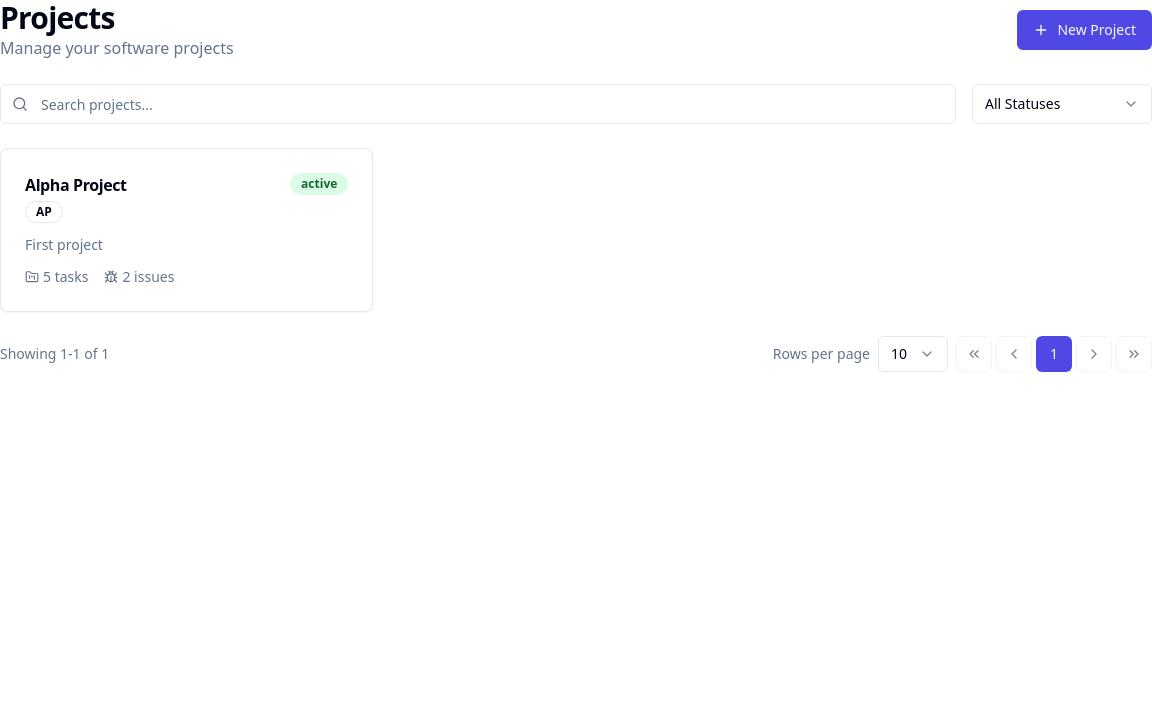
it: ProjectsPage › should POST to /api/projects and refresh the list on submit
Expected: the heading "Alpha Project" is shown, [25,173,127,197]
// Open create dialog
Click the button "New Project": (1085, 30) [1017,10,1151,50]
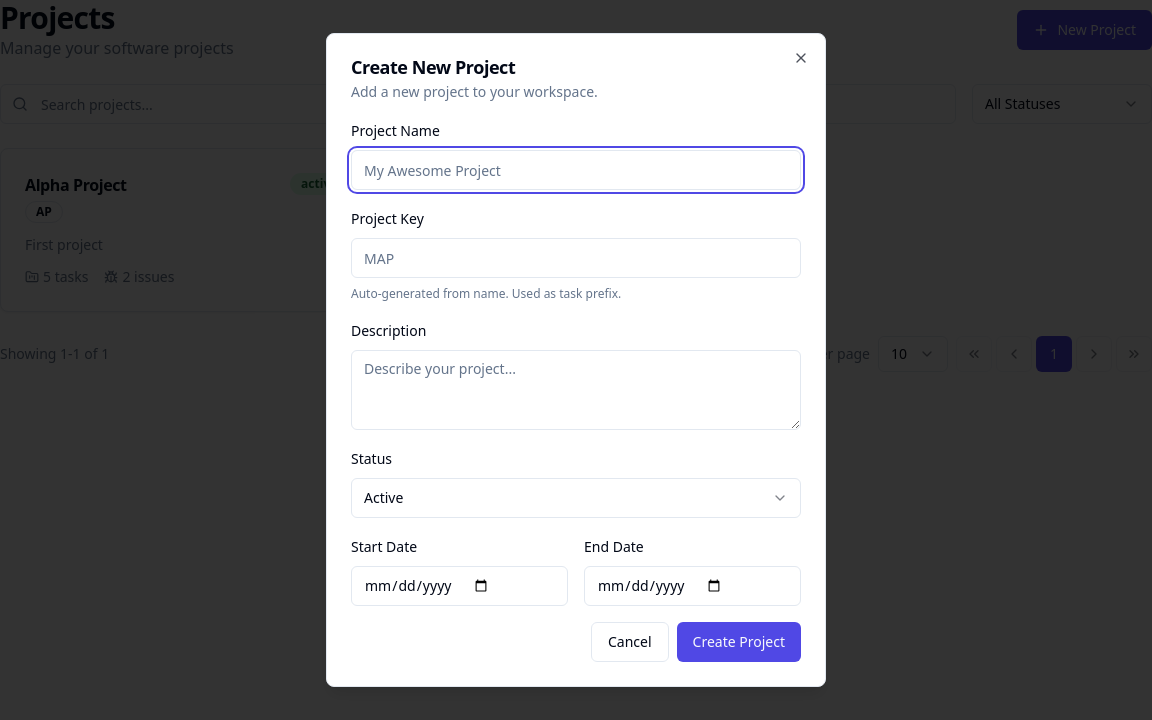
Now the heading "Create New Project" is shown, box [351,55,515,79]
// Fill form
In the field labelled "Project Name": (576, 170) [351,150,801,190], type "Beta Project"
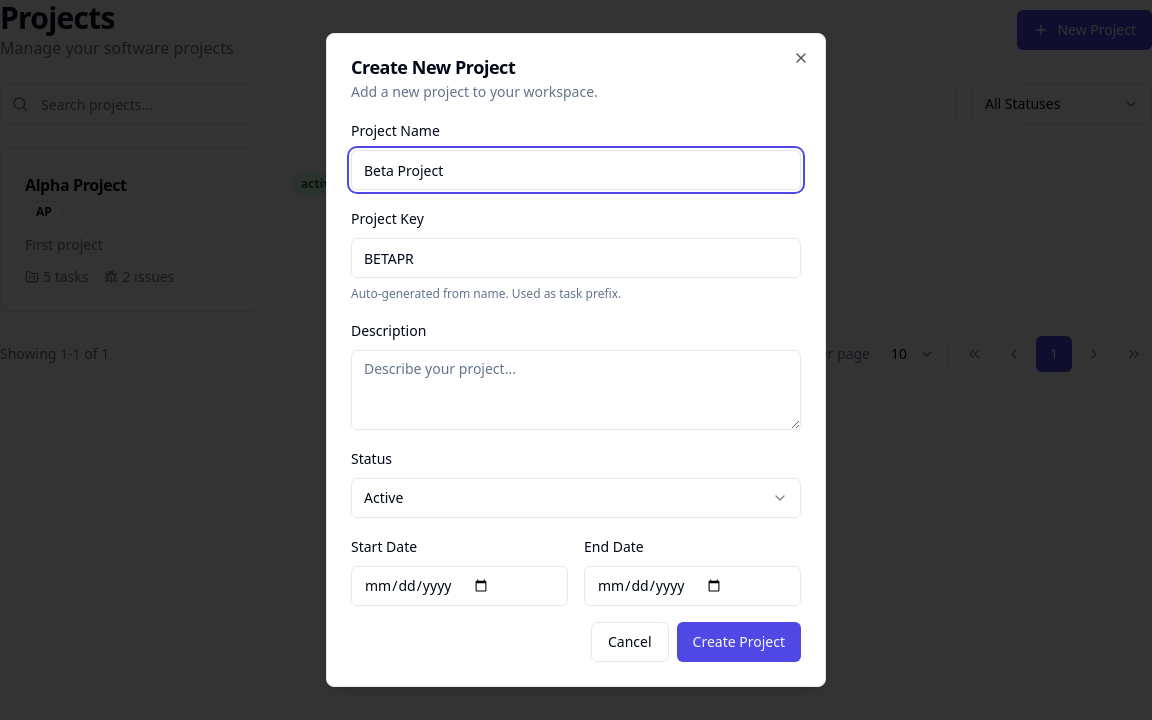
Click the button "Create Project": (739, 642) [677,622,801,662]
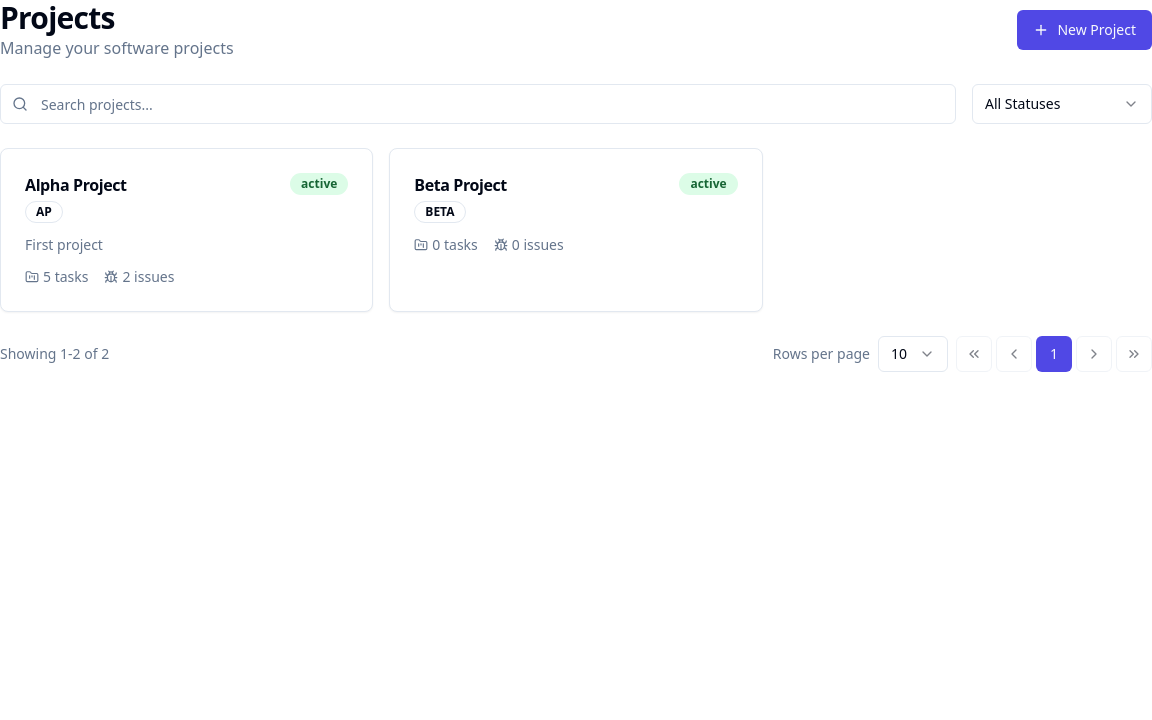
Now the heading "Beta Project" is shown, box [414,173,507,197]
